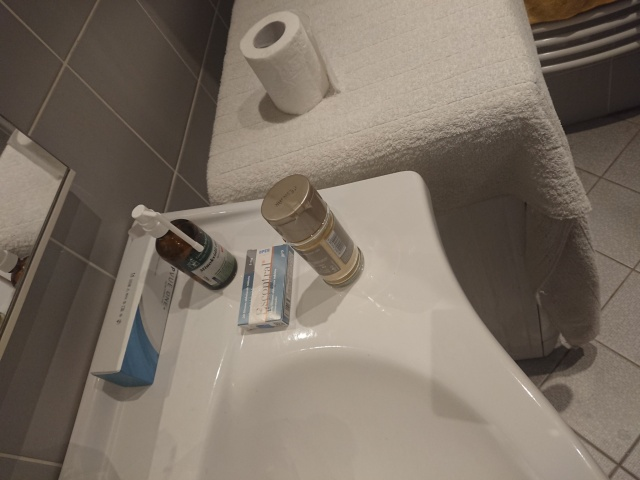Kotanyi Garlic Granules 70g: (258, 172, 367, 290)
